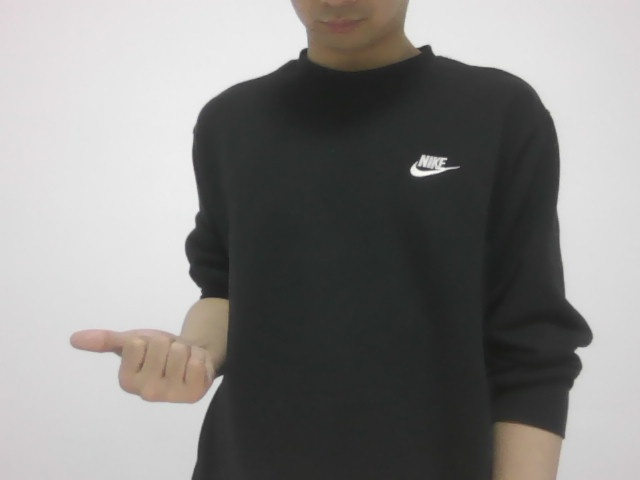have: (65, 310, 215, 415)
